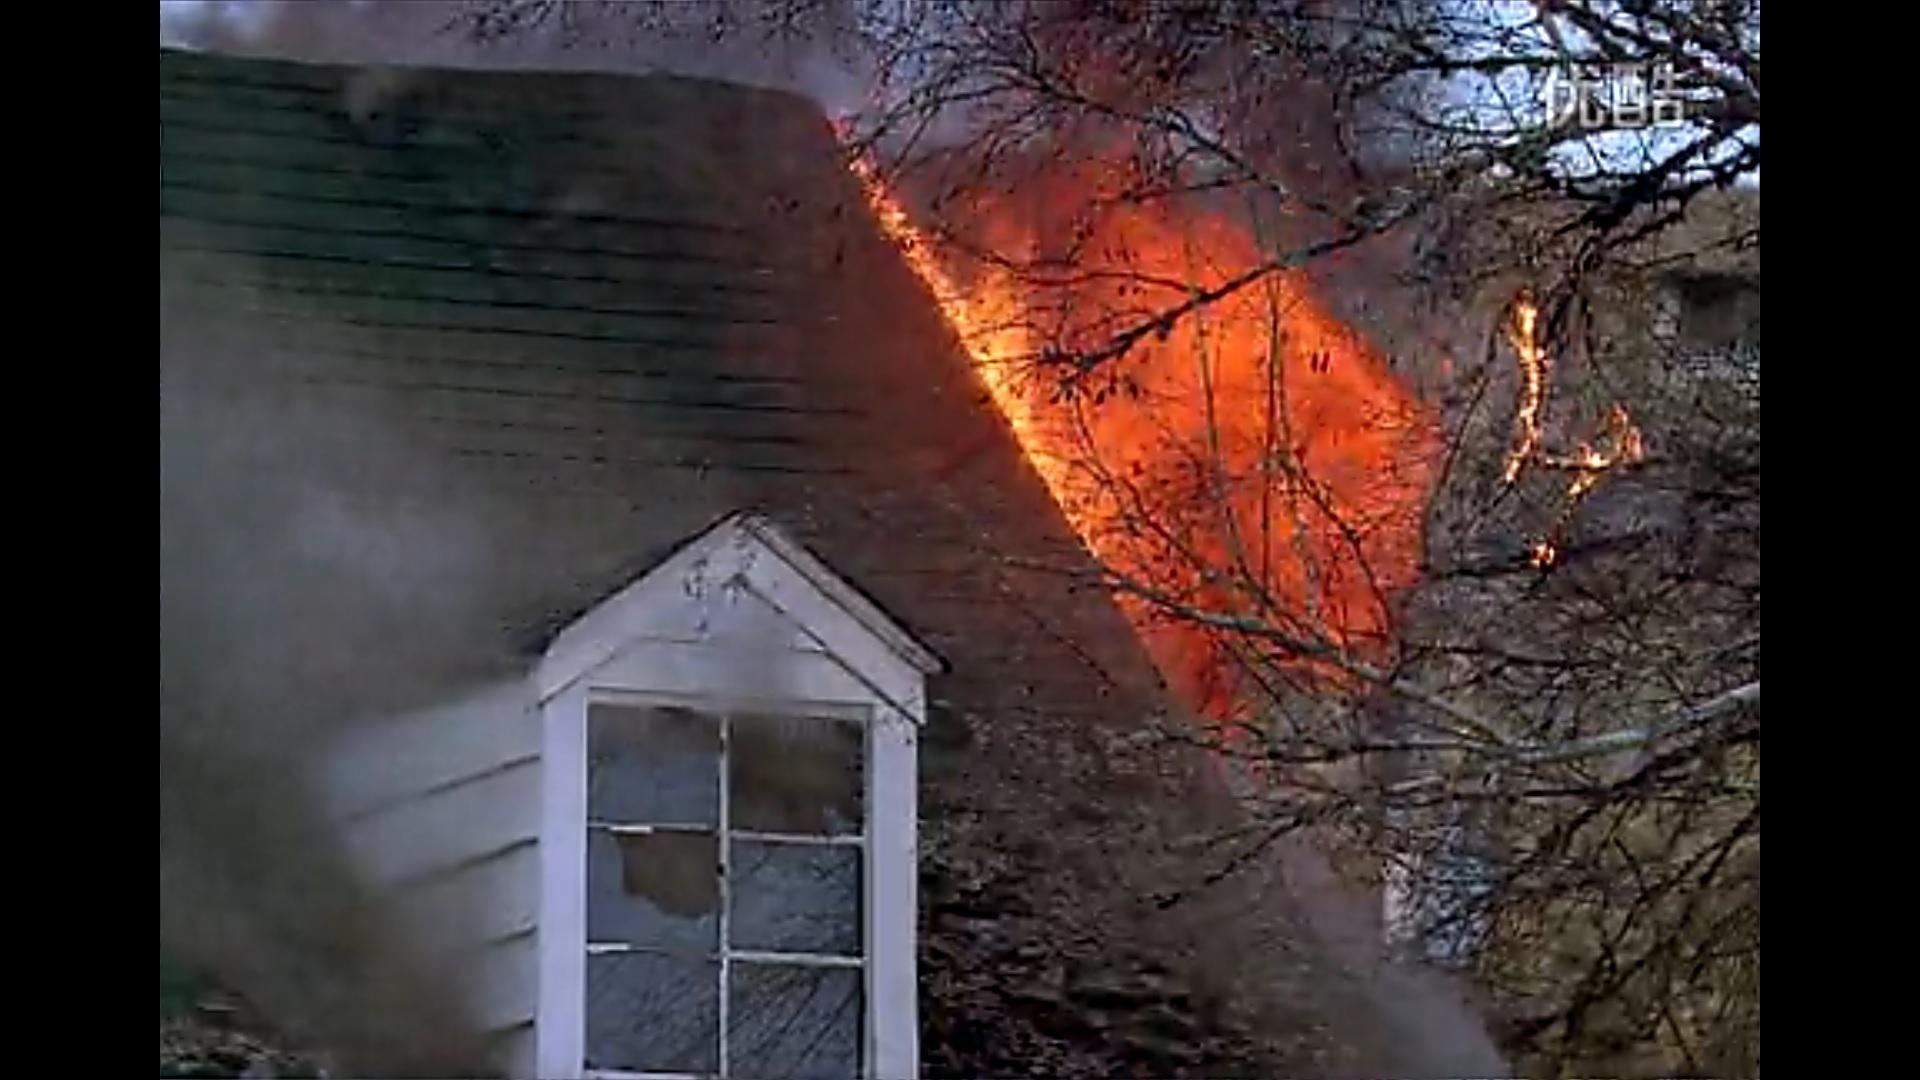fire: (844, 136, 1519, 699), (1489, 297, 1640, 498)
